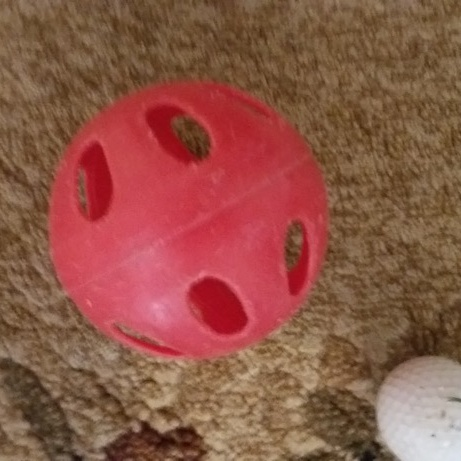ball: (45, 76, 332, 364)
